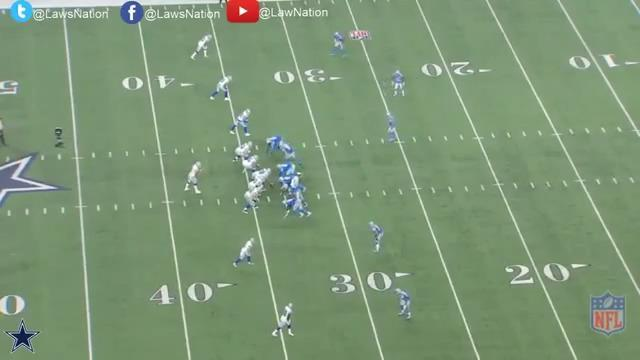defense: (278, 195, 312, 220), (365, 220, 385, 254), (382, 111, 401, 145), (395, 287, 413, 322), (278, 174, 306, 196), (282, 184, 308, 207), (330, 30, 350, 59), (279, 142, 302, 167), (389, 68, 407, 99), (265, 133, 289, 152), (277, 160, 297, 176)
oline: (241, 185, 263, 216), (250, 168, 273, 192), (233, 141, 254, 165), (243, 154, 258, 177), (248, 175, 267, 189)
qb: (185, 161, 205, 198)
skill: (270, 302, 298, 340), (232, 237, 258, 271), (208, 74, 234, 105), (229, 108, 254, 139), (190, 31, 213, 63)
